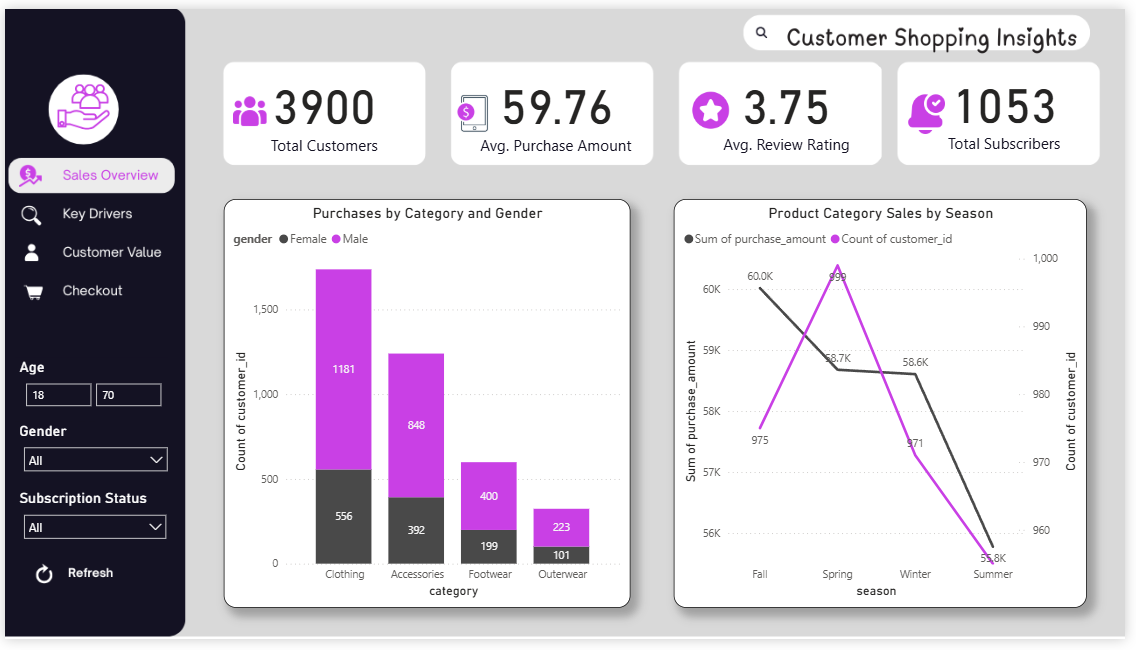

Layout of this report page (visuals, bound fields, positions):
{"tool":"powerbi","page":{"name":"Sales Overview","canvas":[1280,720],"ordinal":0},"visuals":[{"type":"card","fields":{"Values":["Avg(customer_behavior.purchase_amount)"]},"box":[521.5,66.3,217.2,108],"z":0},{"type":"card","fields":{"Values":["Avg(customer_behavior.review_rating)"]},"box":[785.3,66.3,216,106.7],"z":1000},{"type":"card","title":"Total Customers","fields":{"Values":["CountNonNull(customer_behavior.customer_id)"]},"box":[258.9,66.3,213.5,108],"z":2000},{"type":"columnChart","title":"Purchases by Category and Gender","fields":{"Y":["CountNonNull(customer_behavior.customer_id)"],"Category":["customer_behavior.category"],"Series":["customer_behavior.gender"]},"box":[249.6,217.3,464.4,466.9],"z":3000},{"type":"lineChart","title":"Product Category Sales by Season","fields":{"Category":["customer_behavior.season"],"Y":["Sum(customer_behavior.purchase_amount)"],"Y2":["CountNonNull(customer_behavior.customer_id)"]},"box":[764.9,217.3,471.9,466.9],"z":4000},{"type":"slicer","title":"Age","fields":{"Values":["customer_behavior.age"]},"box":[11,398.8,174.2,63.8],"z":5000},{"type":"slicer","title":"Gender","fields":{"Values":["customer_behavior.gender"]},"box":[11,471.2,184.1,62.6],"z":6000},{"type":"slicer","title":"Subscription Status","fields":{"Values":["customer_behavior.subscription_status"]},"box":[11,548.5,182.8,63.8],"z":7000},{"type":"card","fields":{"Values":["CountNonNull(customer_behavior.customer_id)"]},"box":[1040.5,63.8,204.9,106.7],"z":8000},{"type":"image","box":[249.1,93.3,62.6,47.9],"z":9000},{"type":"image","box":[503.1,93.3,61.4,52.8],"z":10000},{"type":"image","box":[775.5,85.9,61.4,60.1],"z":11000},{"type":"image","box":[1020.9,90.8,61.4,57.7],"z":12000}]}

Visuals, with their boxes in screenshot pixels (x1, y1, x2, y2), scaled from the page's 1280x720 canvas onto the 1136x650 screenshot:
card - Avg(customer_behavior.purchase_amount): BBox(463, 60, 656, 157)
card - Avg(customer_behavior.review_rating): BBox(697, 60, 889, 156)
"Total Customers" card: BBox(230, 60, 419, 157)
"Purchases by Category and Gender" columnChart: BBox(222, 196, 634, 618)
"Product Category Sales by Season" lineChart: BBox(679, 196, 1098, 618)
"Age" slicer: BBox(10, 360, 164, 418)
"Gender" slicer: BBox(10, 425, 173, 482)
"Subscription Status" slicer: BBox(10, 495, 172, 553)
card - CountNonNull(customer_behavior.customer_id): BBox(923, 58, 1105, 154)
image: BBox(221, 84, 277, 127)
image: BBox(447, 84, 501, 132)
image: BBox(688, 78, 743, 132)
image: BBox(906, 82, 961, 134)
